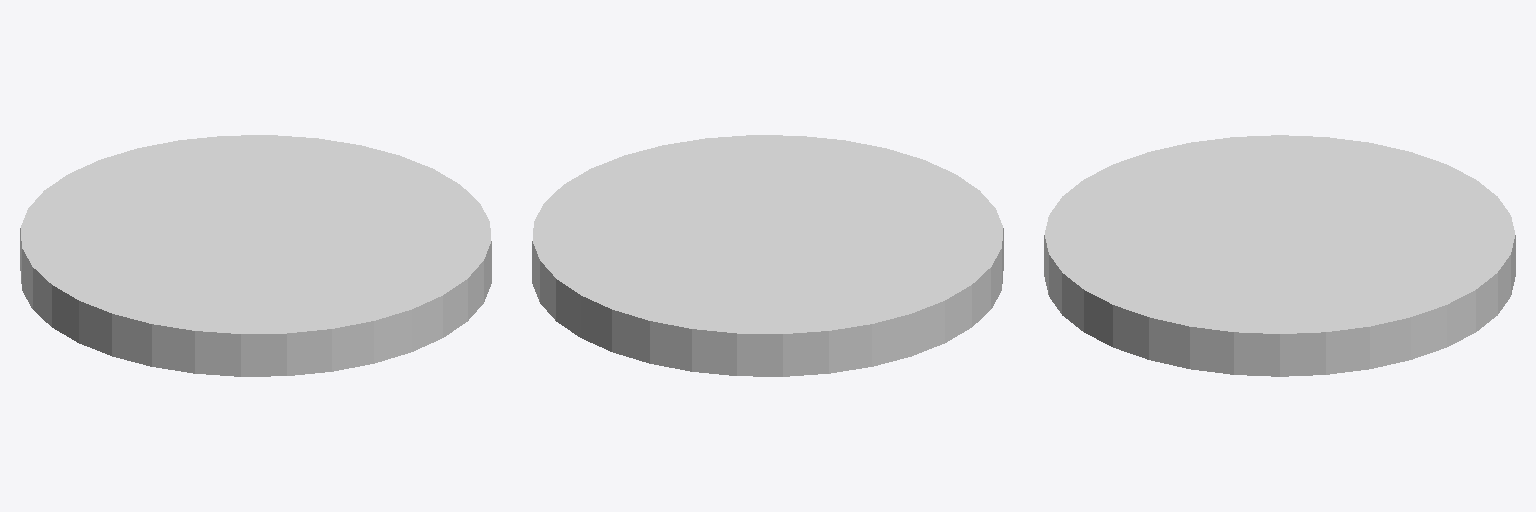
The robot description file, URDF, robot "robot":
<?xml version="1.0" ?>
<robot name="robot">
    <link name="base_link">
        <inertial>
            <mass value="0" />
            <inertia ixx = "0" ixy = "0" ixz = "0"
                iyx = "0" iyy = "0" iyz = "0"
                izx = "0" izy = "0" izz = "0" />
        </inertial>
    </link>
    <joint name="center_y" type="prismatic">
        <parent link="base_link"/>
        <child link="x_control"/>
        <axis xyz="0 1 0"/>
        <limit effort="1" lower="-1" upper="1" velocity="0.2"/>
    </joint>
    <link name="x_control">
        <inertial>
            <mass value="0.1" />
            <inertia ixx = "0" ixy = "0" ixz = "0"
                iyx = "0" iyy = "0" iyz = "0"
                izx = "0" izy = "0" izz = "0" />
        </inertial>
    </link>
    <joint name="center_x" type="prismatic">
        <parent link="x_control"/>
        <child link="yaw_control"/>
        <axis xyz="1 0 0"/>
        <limit effort="1" lower="-1" upper="1" velocity="1"/>
    </joint>
    <link name="yaw_control">
        <inertial>
            <mass value="0.1" />
            <inertia ixx = "0" ixy = "0" ixz = "0"
                iyx = "0" iyy = "0" iyz = "0"
                izx = "0" izy = "0" izz = "0" />
        </inertial>
    </link>
    <joint name="gripper_yaw" type="revolute">
        <parent link="yaw_control"/>
        <child link="gripper_link"/>
        <axis xyz="0 0 1"/>
        <limit lower="-31.4" upper="31.4" velocity="0.1" effort="1"/>
    </joint>
    <link name="gripper_link">
        <inertial>
            <origin rpy="0 0 0" xyz="0 0 0" />
            <mass value="1" />
            <inertia ixx="0" ixy="0" ixz="0" iyy="0" iyz="0" izz="0" />
        </inertial>
        <visual>
            <origin rpy="0 0 0" xyz="0 0 0.1" />
            <geometry>
                <cylinder radius="0.1" length="0.02"/>
            </geometry>
            <material name="a">
                <color rgba="0.9 0.9 0.9 1" />
            </material>
        </visual>
        <collision>
            <origin rpy="0 0 0" xyz="0 0 0.1" />
            <geometry>
                <cylinder radius="0.1" length="0.02"/>
            </geometry>
        </collision>
    </link>
</robot>

--- Render facts (derived) ---
3 views of the same robot in one strip: view 1: azimuth 30°, elevation 25°; view 2: azimuth 150°, elevation 25°; view 3: azimuth 270°, elevation 25° (orthographic).
Robot: robot — 4 links, 3 joints (1 revolute, 2 prismatic); root link base_link; default pose: every joint at zero.
Visible links, largest first — view 1: gripper_link; view 2: gripper_link; view 3: gripper_link.
Link boxes in pixels (x1=…): gripper_link: x1=20, y1=135, x2=491, y2=376; gripper_link: x1=532, y1=135, x2=1003, y2=376; gripper_link: x1=1044, y1=135, x2=1515, y2=376.
Bounding box of the posed robot: 0.2 × 0.2 × 0.02 m (x, y, z).
Geometry: primitives only (box / cylinder / sphere), no mesh files.